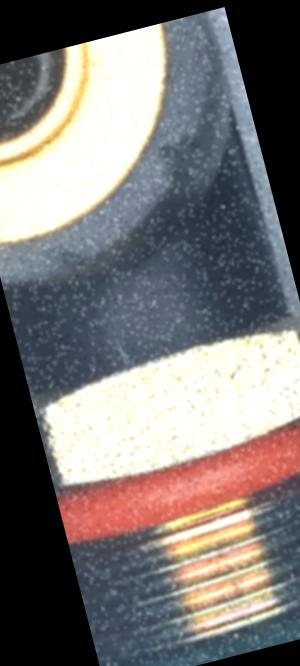bump: (148, 127, 205, 190), (32, 234, 95, 288)
joint line: (99, 273, 132, 329)
white mark: (100, 329, 139, 375)
